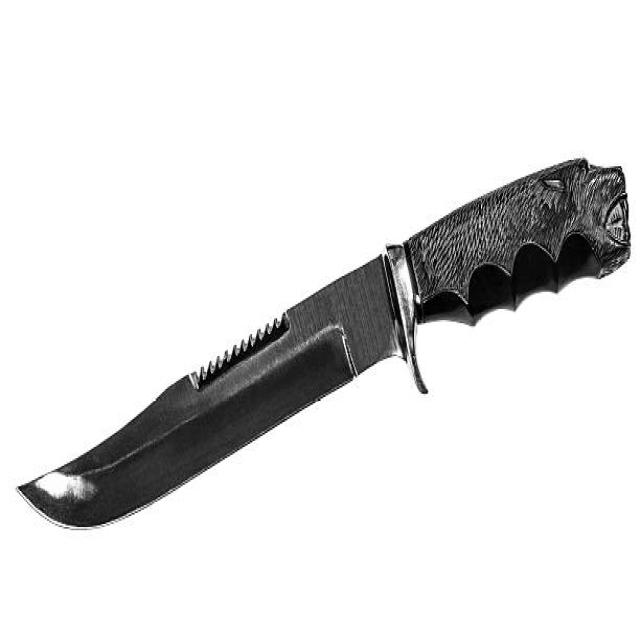knife: (17, 152, 632, 562)
